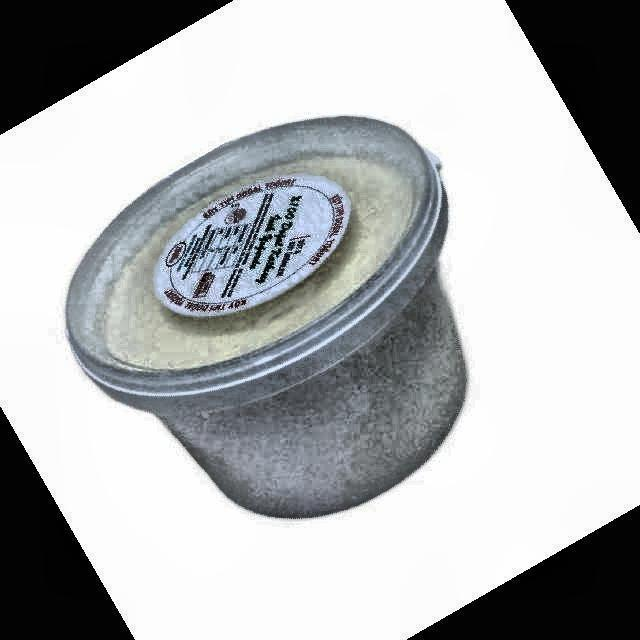plastic: (66, 116, 468, 517)
